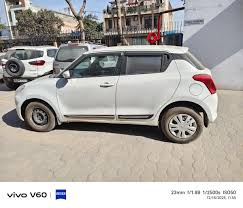Swift: (16, 43, 218, 142)
